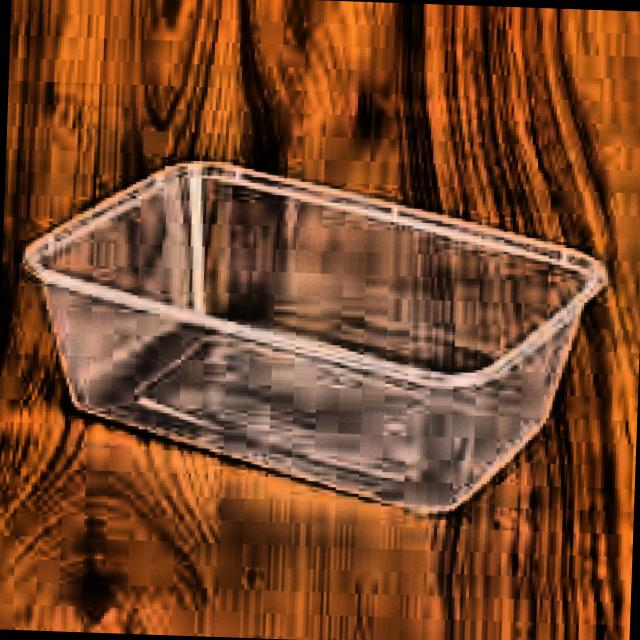plastic container: (23, 163, 605, 511)
